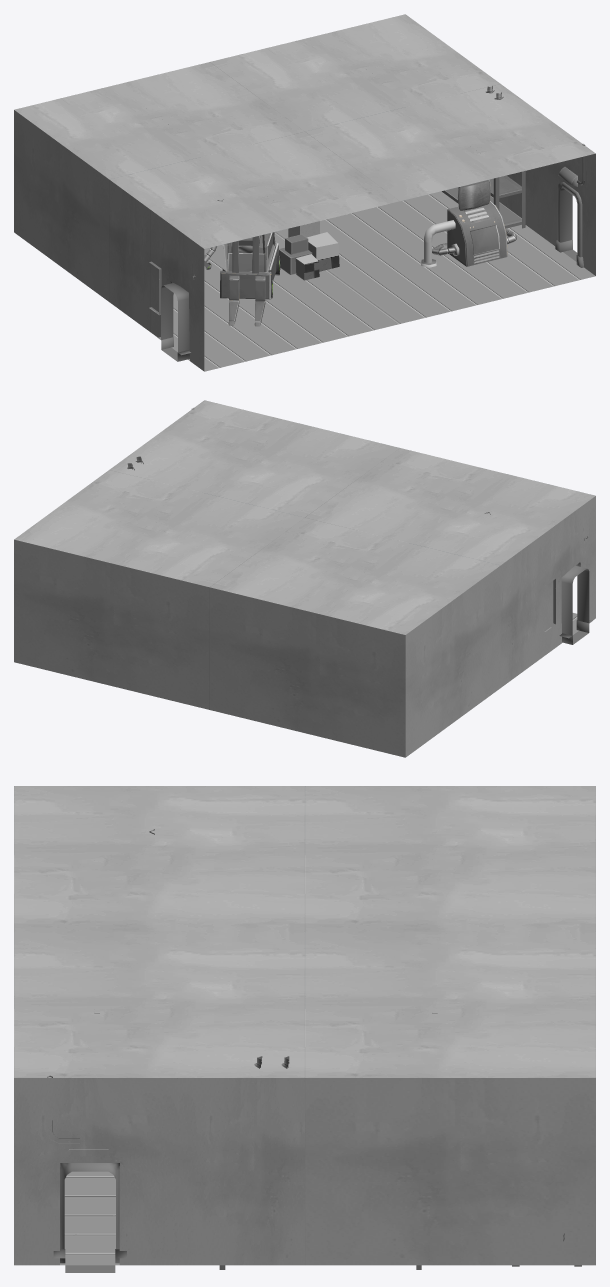
The model's file is MHS_Storage_L2_R2_optimized.fbx.
3 views of the same model, one above another, from view 1: azimuth 30°, elevation 25°; view 2: azimuth 150°, elevation 25°; view 3: azimuth 270°, elevation 25° (orthographic). The views are drawn at different scales.
Visible parts, largest first — view 1: lightmap1, lightmap-1; view 2: lightmap1, lightmap-1; view 3: lightmap1, lightmap-1.
Boxes of the visible parts, bbox=[...] form: lightmap1: bbox=[14, 14, 595, 371]; lightmap-1: bbox=[161, 188, 577, 361]; lightmap1: bbox=[14, 400, 595, 757]; lightmap-1: bbox=[561, 565, 589, 644]; lightmap1: bbox=[14, 786, 595, 1269]; lightmap-1: bbox=[64, 1163, 115, 1272].
Size of the model in its own units: 20.61 by 6.35 by 16.51.
